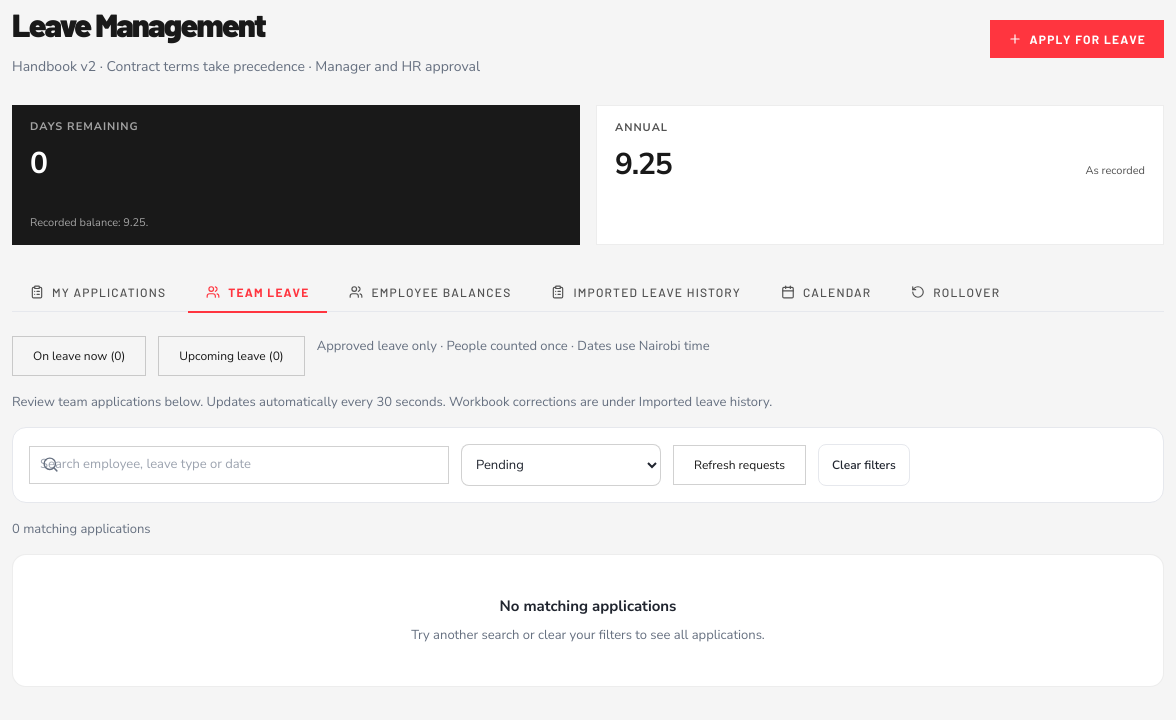
Test case: clear filters restores all team applications and their count
Click the button "Clear filters". click: (864, 465)
box: [818, 444, 910, 486]
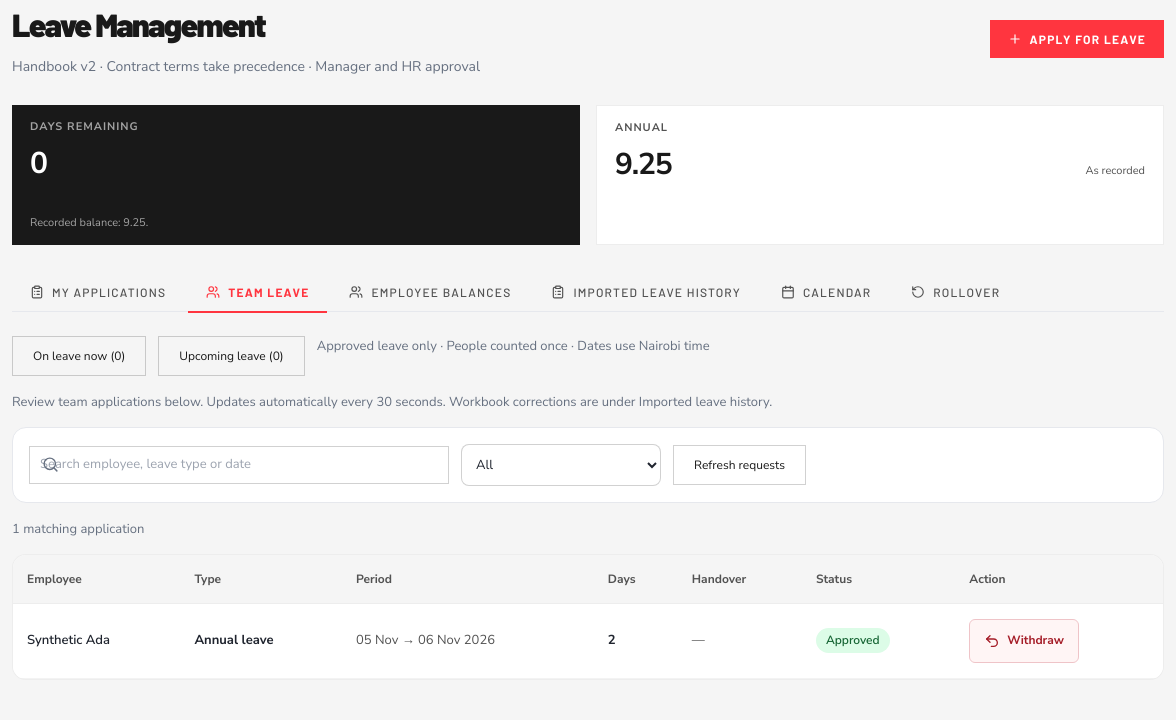
Expected: the dropdown named "Team leave status" shows "All", [461, 444, 661, 486]
Expected: the row with test id "leave-request" is shown, [13, 603, 1163, 678]
Expected: the text with class "workspace-results-count" reads "1 matching application", [12, 520, 144, 538]
